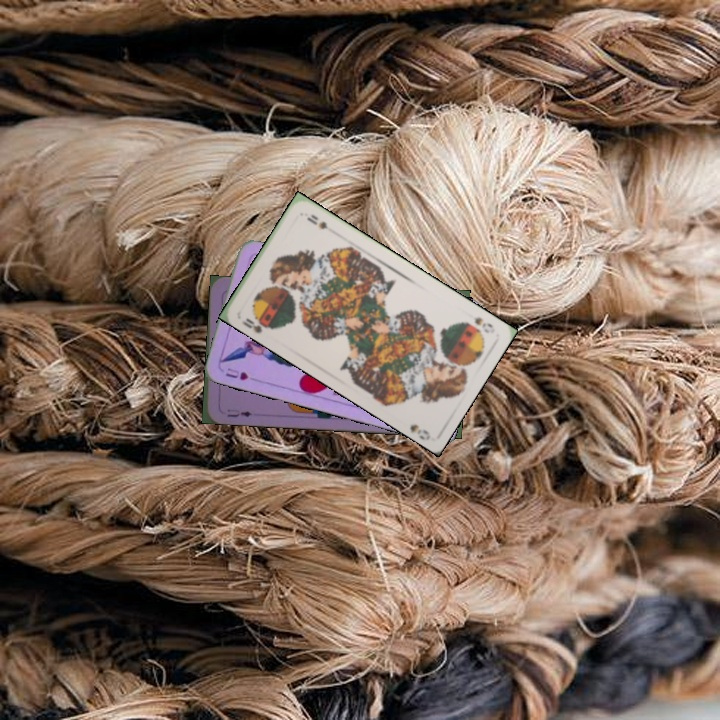EU: (223, 405, 254, 420)
HU: (221, 364, 251, 383)
SO: (237, 312, 277, 336), (469, 313, 495, 336)
